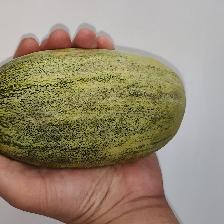gua: (24, 53, 172, 153)
